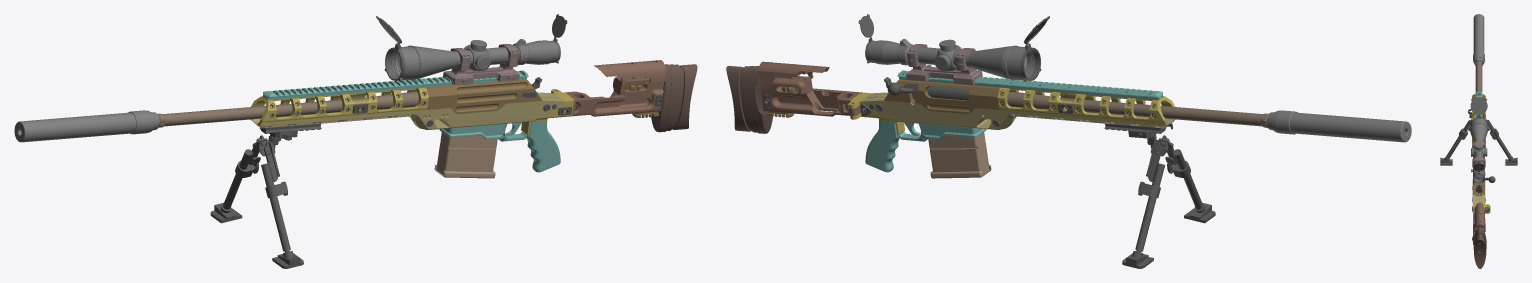
3 renders of one model, left to right at view 1: azimuth 30°, elevation 25°; view 2: azimuth 150°, elevation 25°; view 3: azimuth 270°, elevation 25°, orthographic. The views are drawn at different scales.
Visible parts, largest first — view 1: polySurface1202, polySurface1334; view 2: polySurface1202, polySurface1334; view 3: polySurface1202, polySurface1334.
Part boxes in pixels (x1,y1,x2,y2): polySurface1202: (14, 39, 697, 268); polySurface1334: (376, 14, 567, 81); polySurface1202: (726, 39, 1411, 268); polySurface1334: (858, 14, 1049, 81); polySurface1202: (1440, 14, 1517, 268); polySurface1334: (1470, 97, 1487, 183).
Size of the model in its own units: 148 by 39.43 by 28.51.
